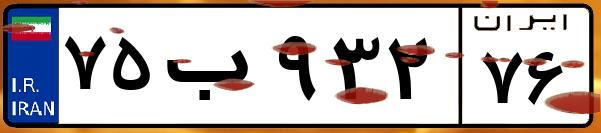2: (385, 28, 445, 110)
3: (330, 28, 385, 110)
5: (110, 28, 158, 98)
6: (525, 38, 570, 115)
7: (57, 26, 110, 100), (475, 38, 525, 113)
9: (270, 28, 330, 110)
ب: (158, 20, 270, 120)
